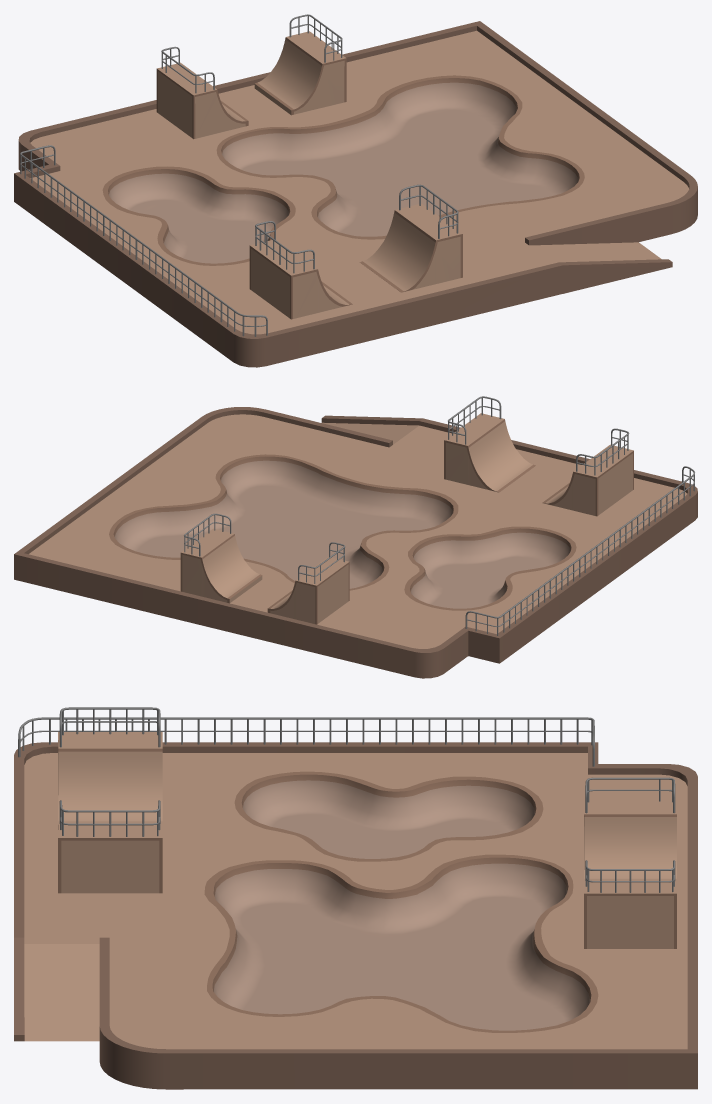
The model's file is SM_Buildings_Skatepark_01.fbx.
3 views of the same model, one above another, from view 1: azimuth 30°, elevation 25°; view 2: azimuth 150°, elevation 25°; view 3: azimuth 270°, elevation 25° (orthographic). The views are drawn at different scales.
Parts seen in each view (by area): view 1: SM_Buildings_Skatepark_01; view 2: SM_Buildings_Skatepark_01; view 3: SM_Buildings_Skatepark_01.
Part boxes in pixels (x1,y1,x2,y2): SM_Buildings_Skatepark_01: (14,14,697,367); SM_Buildings_Skatepark_01: (14,396,697,678); SM_Buildings_Skatepark_01: (14,707,697,1089).
Bounding box in the file's own units: 21.5 × 3.59 × 19.96.
